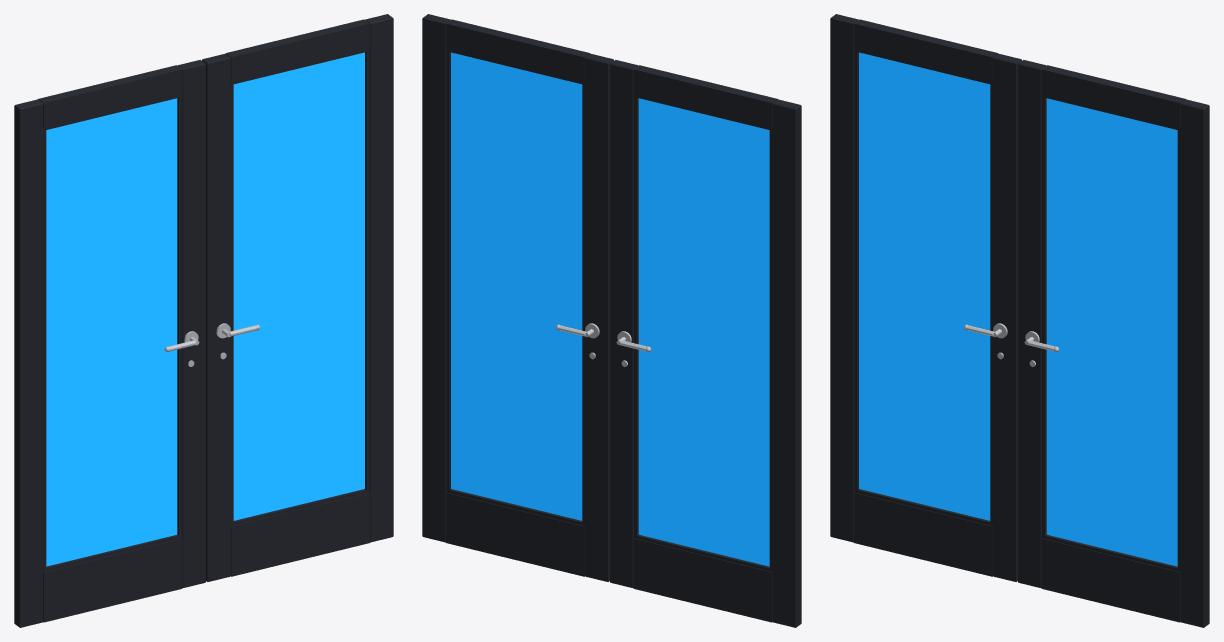
File: porta_dupla_vidro_inteiro_preta.glb
3 views of the same model, side by side, from view 1: azimuth 30°, elevation 25°; view 2: azimuth 150°, elevation 25°; view 3: azimuth 330°, elevation 25° (orthographic).
Visible parts, largest first — view 1: porta_dupla_vidro_inteiro_preta; view 2: porta_dupla_vidro_inteiro_preta; view 3: porta_dupla_vidro_inteiro_preta.
Boxes of the visible parts, x1=… form: porta_dupla_vidro_inteiro_preta: x1=14, y1=14, x2=393, y2=627; porta_dupla_vidro_inteiro_preta: x1=422, y1=14, x2=801, y2=627; porta_dupla_vidro_inteiro_preta: x1=830, y1=14, x2=1209, y2=627.
Bounding box in the file's own units: 1.56 × 2.07 × 0.143.
